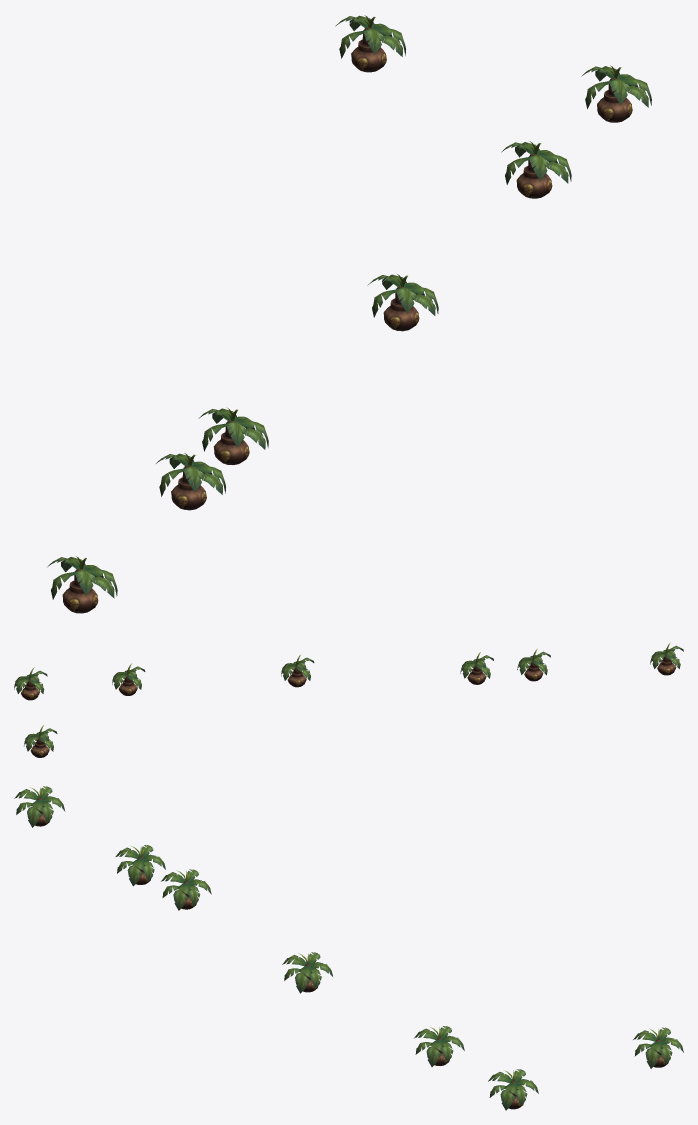
File: wujian15.fbx
The picture shows the model from 3 angles, top to bottom: view 1: azimuth 30°, elevation 25°; view 2: azimuth 150°, elevation 25°; view 3: azimuth 270°, elevation 25°; orthographic projection. The views are drawn at different scales.
Parts seen in each view (by area): view 1: wujian15; view 2: wujian15; view 3: wujian15.
Part boxes in pixels (x1,y1,x2,y2): wujian15: [47, 15, 651, 613]; wujian15: [14, 642, 683, 757]; wujian15: [14, 786, 683, 1110].
Size of the model in its own units: 3640 by 204 by 3422.
